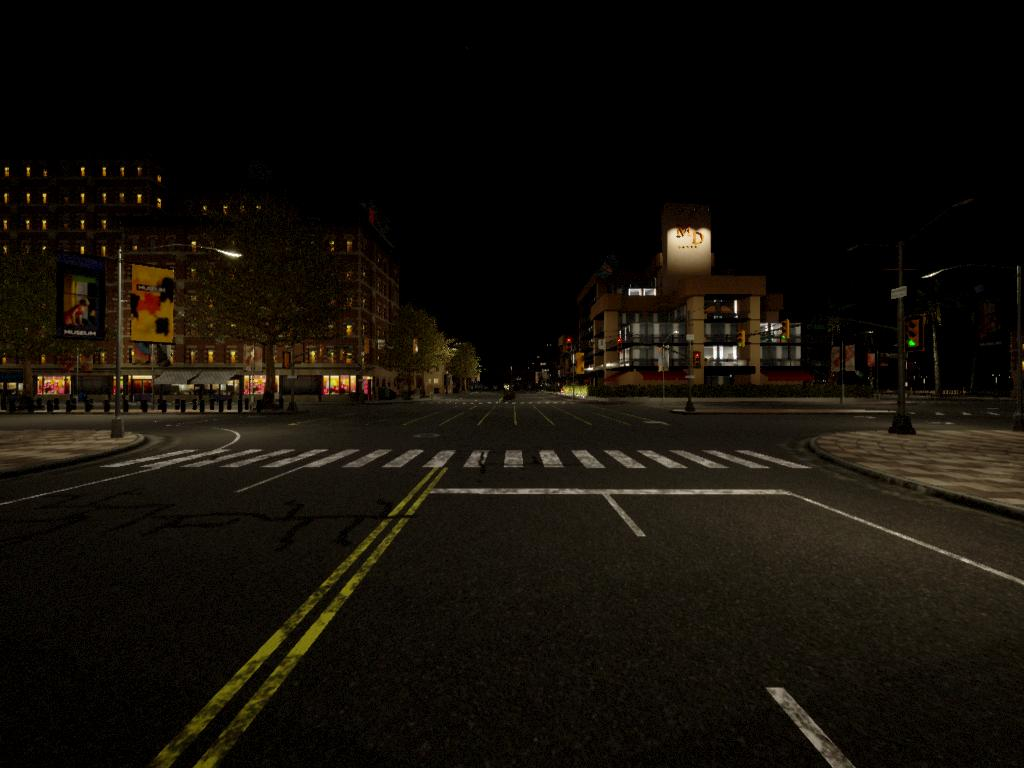traffic_light: (906, 319, 926, 350), (781, 321, 790, 342), (737, 331, 747, 349), (694, 352, 702, 370), (566, 338, 573, 354), (617, 338, 623, 354)
